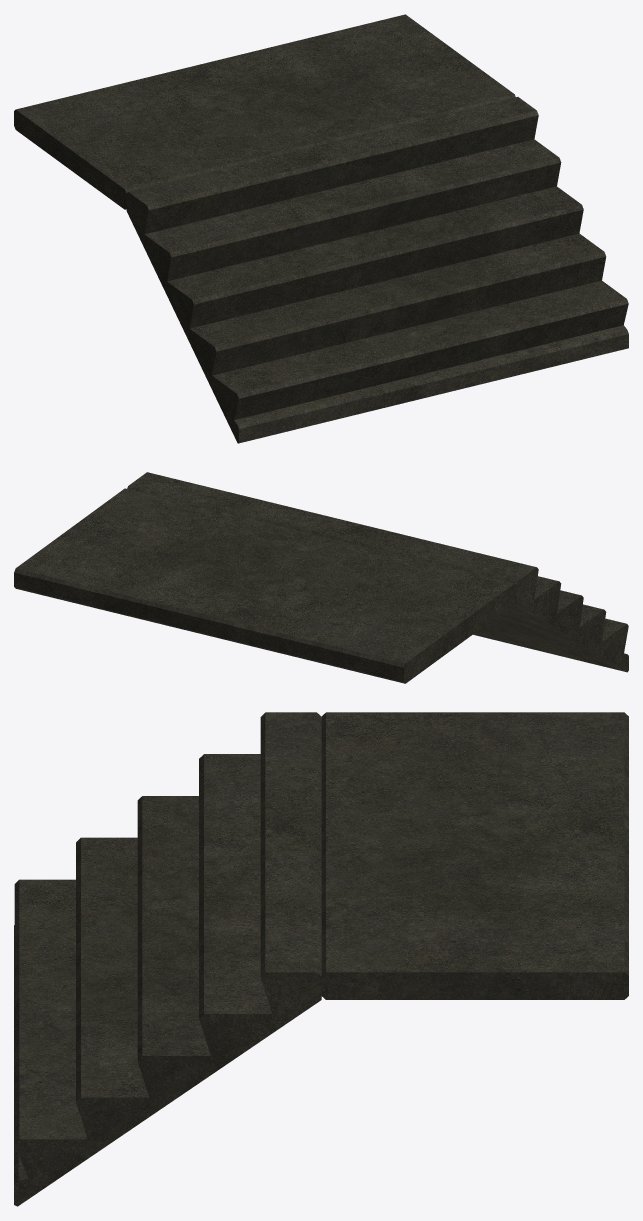
Rendered from stairs_4.glb.
3 renders of one model, top to bottom at view 1: azimuth 30°, elevation 25°; view 2: azimuth 150°, elevation 25°; view 3: azimuth 270°, elevation 25°, orthographic. The views are drawn at different scales.
Parts seen in each view (by area): view 1: stairs_4; view 2: stairs_4; view 3: stairs_4.
Part boxes in pixels (x1,y1,x2,y2): stairs_4: [14, 14, 628, 443]; stairs_4: [14, 472, 628, 683]; stairs_4: [14, 712, 628, 1206].
Size of the model in its own units: 4 by 1.68 by 4.
Materials: 1 (1 with a texture image).
